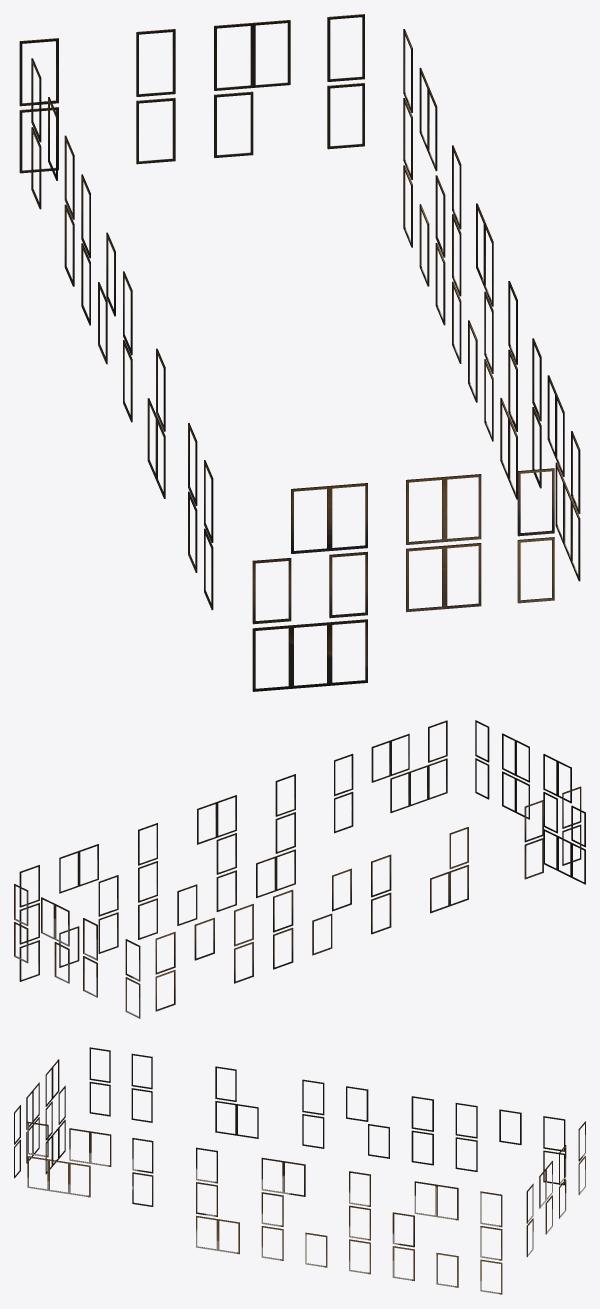
The model's file is Building_05_Frames.fbx.
The picture shows the model from 3 angles, top to bottom: view 1: azimuth 30°, elevation 25°; view 2: azimuth 150°, elevation 25°; view 3: azimuth 270°, elevation 25°; orthographic projection. The views are drawn at different scales.
Parts seen in each view (by area): view 1: Building_05_Frames; view 2: Building_05_Frames; view 3: Building_05_Frames.
Part boxes in pixels (x1,y1,x2,y2): Building_05_Frames: (19, 14, 580, 691); Building_05_Frames: (14, 720, 585, 1018); Building_05_Frames: (14, 1047, 585, 1294).
Bounding box in the file's own units: 27.77 × 8.74 × 45.45.
Materials: 1 (1 with a texture image).
